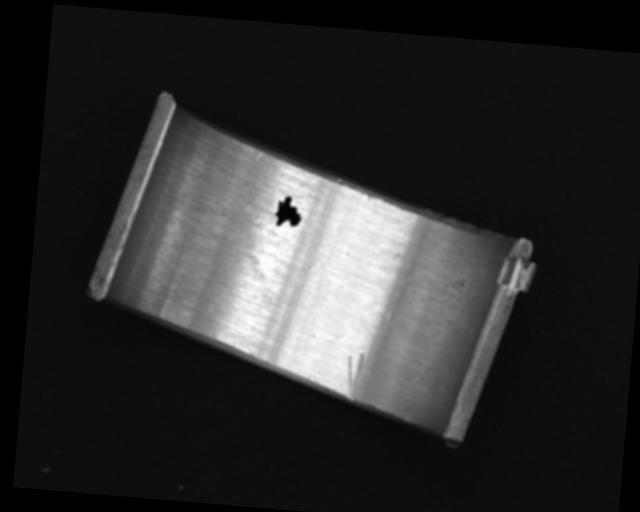blot: (272, 193, 304, 230)
nick: (343, 351, 367, 401), (405, 407, 414, 423)
